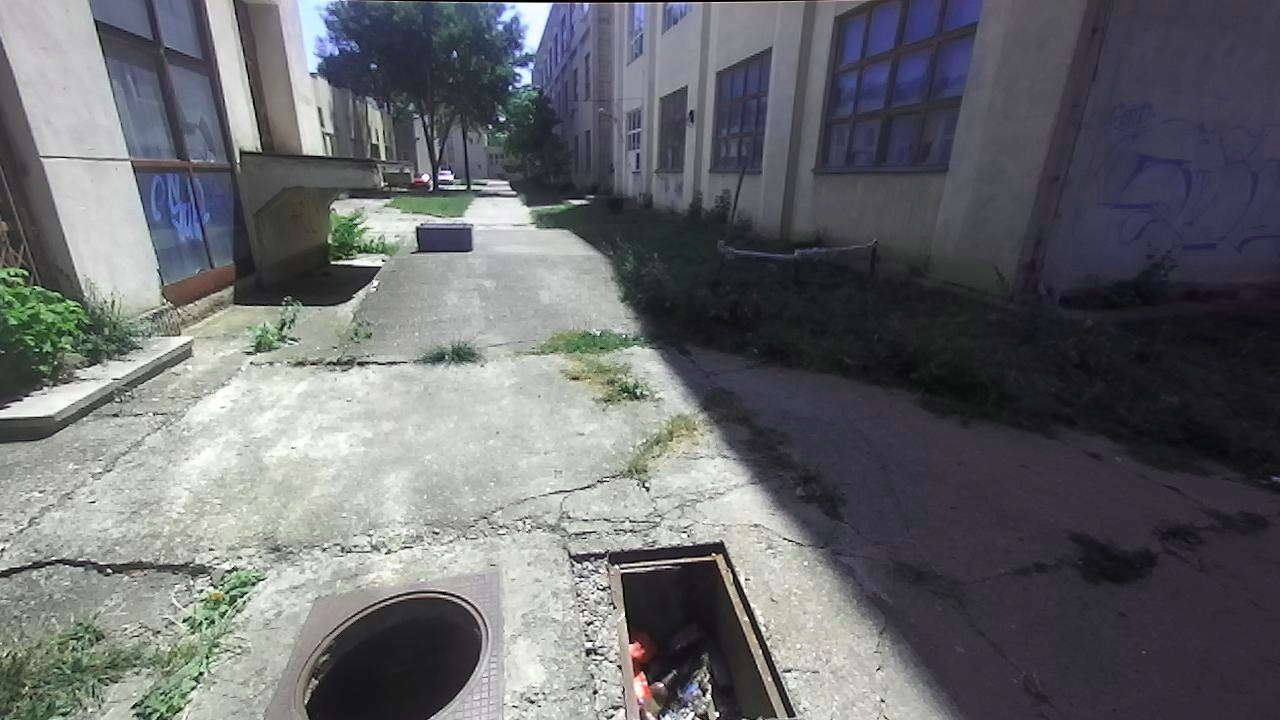drain: (600, 532, 806, 717), (290, 587, 491, 719)
